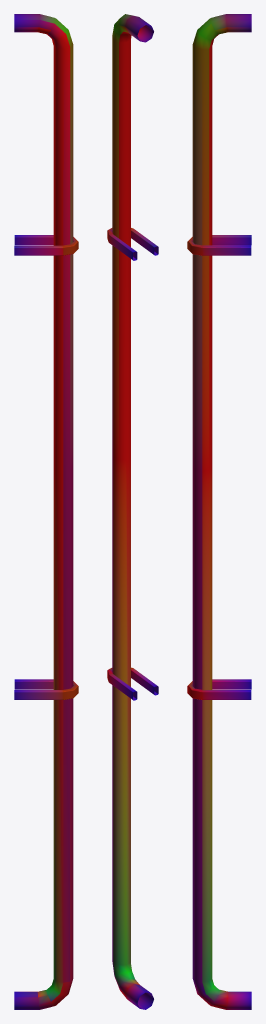
File: PipesA_D.fbx
3 views of the same model, side by side, from view 1: azimuth 90°, elevation 25°; view 2: azimuth 210°, elevation 25°; view 3: azimuth 270°, elevation 25° (orthographic).
Parts seen in each view (by area): view 1: Plane.002; view 2: Plane.002; view 3: Plane.002.
Boxes of the visible parts, x1=… form: Plane.002: x1=14, y1=14, x2=78, y2=1009; Plane.002: x1=107, y1=14, x2=158, y2=1009; Plane.002: x1=187, y1=14, x2=251, y2=1009.
Bounding box in the file's own units: 12.3 × 448 × 26.17.
